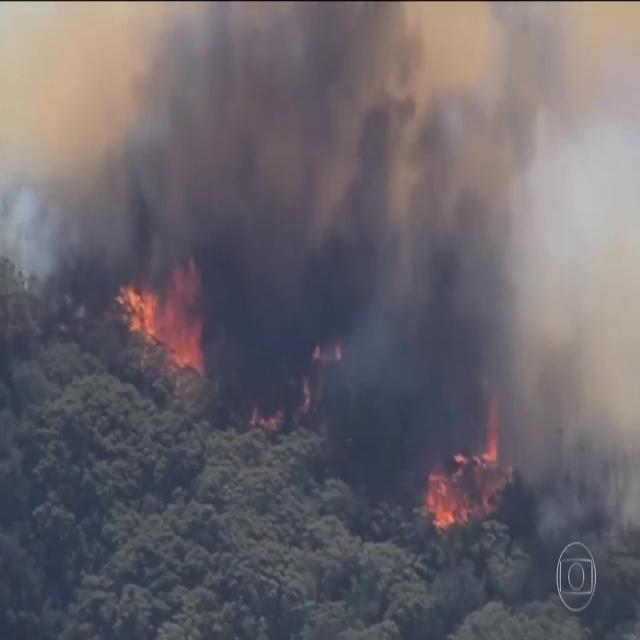Fire: (116, 279, 214, 384), (424, 412, 508, 529), (251, 410, 285, 430)
